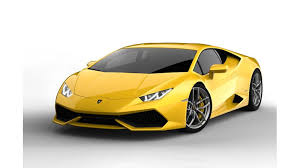Lamborghini: (59, 41, 264, 129)
